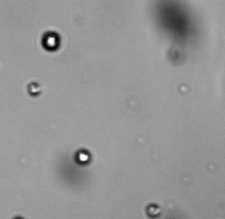Dead Cell: (147, 203, 162, 217)
Living Cell: (40, 30, 61, 52), (73, 148, 92, 166), (27, 80, 42, 95)
